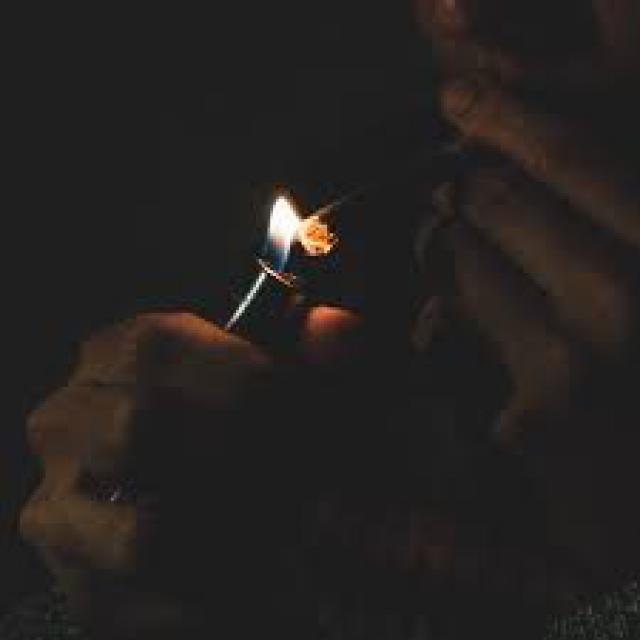fire: (257, 189, 314, 283)
